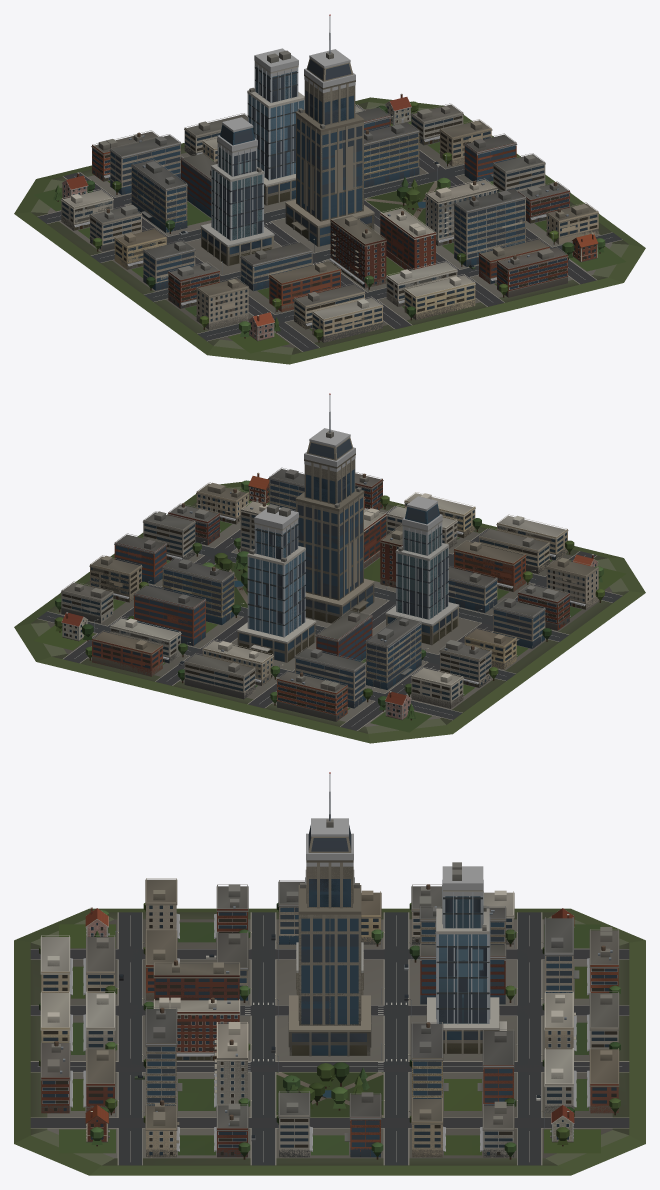
The model's file is city_modern_city.glb.
The picture shows the model from 3 angles, top to bottom: view 1: azimuth 30°, elevation 25°; view 2: azimuth 150°, elevation 25°; view 3: azimuth 270°, elevation 25°; orthographic projection. The views are drawn at different scales.
Parts seen in each view (by area): view 1: city_modern_city_LOD0_mesh, city_modern_city_LOD1_mesh, city_modern_city_LOD2_mesh; view 2: city_modern_city_LOD0_mesh, city_modern_city_LOD1_mesh, city_modern_city_LOD2_mesh; view 3: city_modern_city_LOD0_mesh, city_modern_city_LOD1_mesh, city_modern_city_LOD2_mesh.
Boxes of the visible parts, x1,y1,x2,y2 form: city_modern_city_LOD0_mesh: [33, 14, 626, 353]; city_modern_city_LOD1_mesh: [14, 29, 645, 364]; city_modern_city_LOD2_mesh: [53, 63, 603, 341]; city_modern_city_LOD0_mesh: [33, 393, 626, 732]; city_modern_city_LOD1_mesh: [14, 409, 645, 743]; city_modern_city_LOD2_mesh: [56, 455, 602, 720]; city_modern_city_LOD0_mesh: [33, 772, 626, 1164]; city_modern_city_LOD1_mesh: [14, 774, 645, 1175]; city_modern_city_LOD2_mesh: [41, 862, 618, 1157].
Size of the model in its own units: 266 by 125 by 266.
